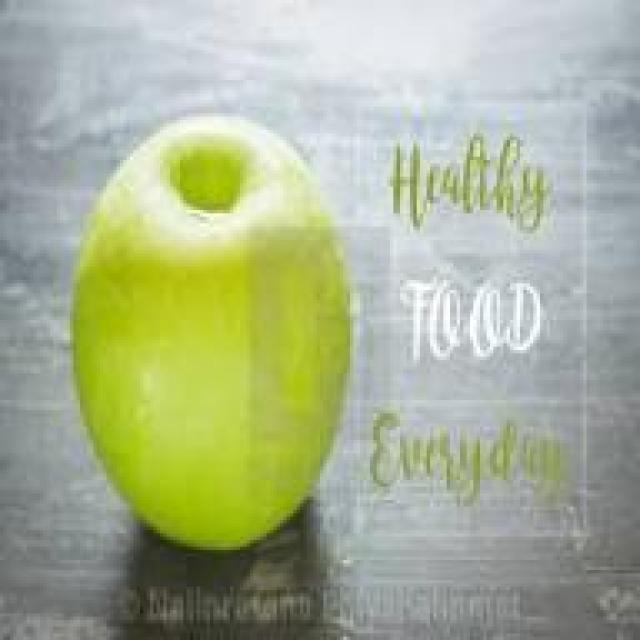apple: (80, 130, 340, 547)
